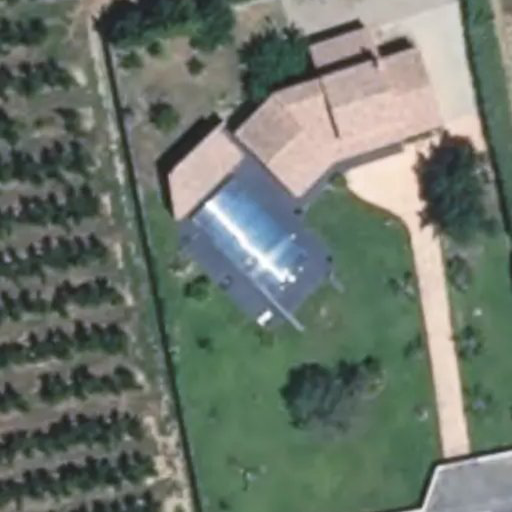pool: (193, 216, 305, 254)
